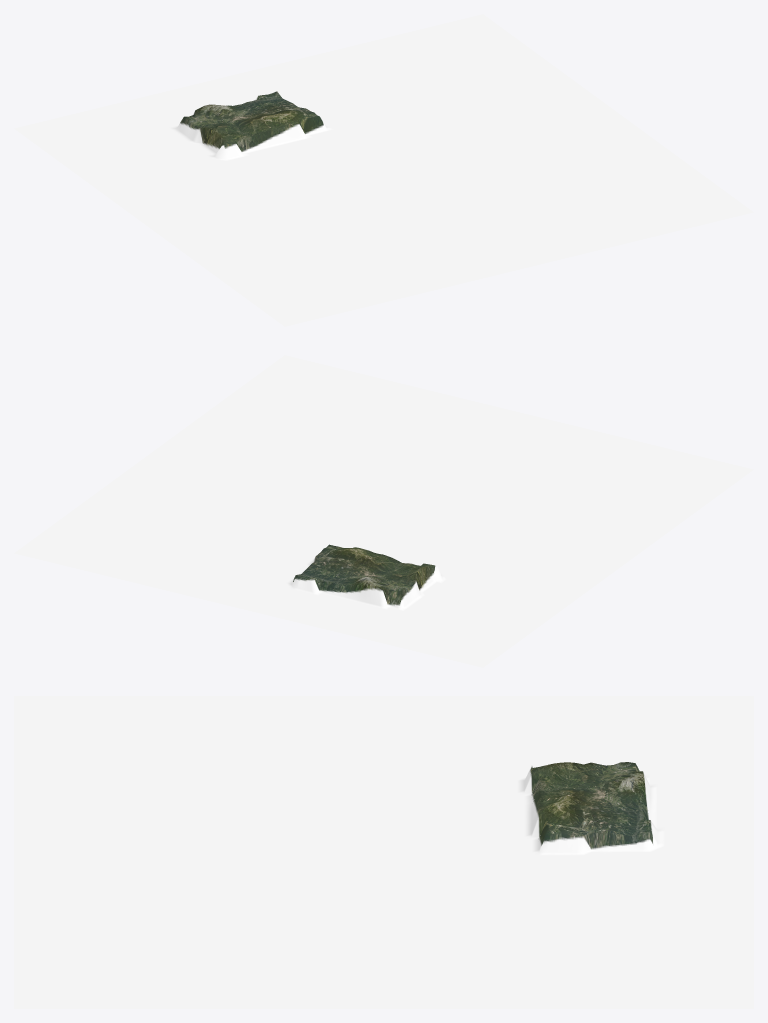
The model's file is terrain2.glb.
The picture shows the model from 3 angles, top to bottom: view 1: azimuth 30°, elevation 25°; view 2: azimuth 150°, elevation 25°; view 3: azimuth 270°, elevation 25°; orthographic projection. The views are drawn at different scales.
Parts seen in each view (by area): view 1: MDT02-ETRS89-HU31-0254-4-COB2; view 2: MDT02-ETRS89-HU31-0254-4-COB2; view 3: MDT02-ETRS89-HU31-0254-4-COB2.
Part boxes in pixels (x1,y1,x2,y2): MDT02-ETRS89-HU31-0254-4-COB2: (14,14,753,326); MDT02-ETRS89-HU31-0254-4-COB2: (14,355,753,667); MDT02-ETRS89-HU31-0254-4-COB2: (14,696,753,1008).
Size of the model in its own units: 63842 by 2249 by 63842.
1 material, 1 textured.
